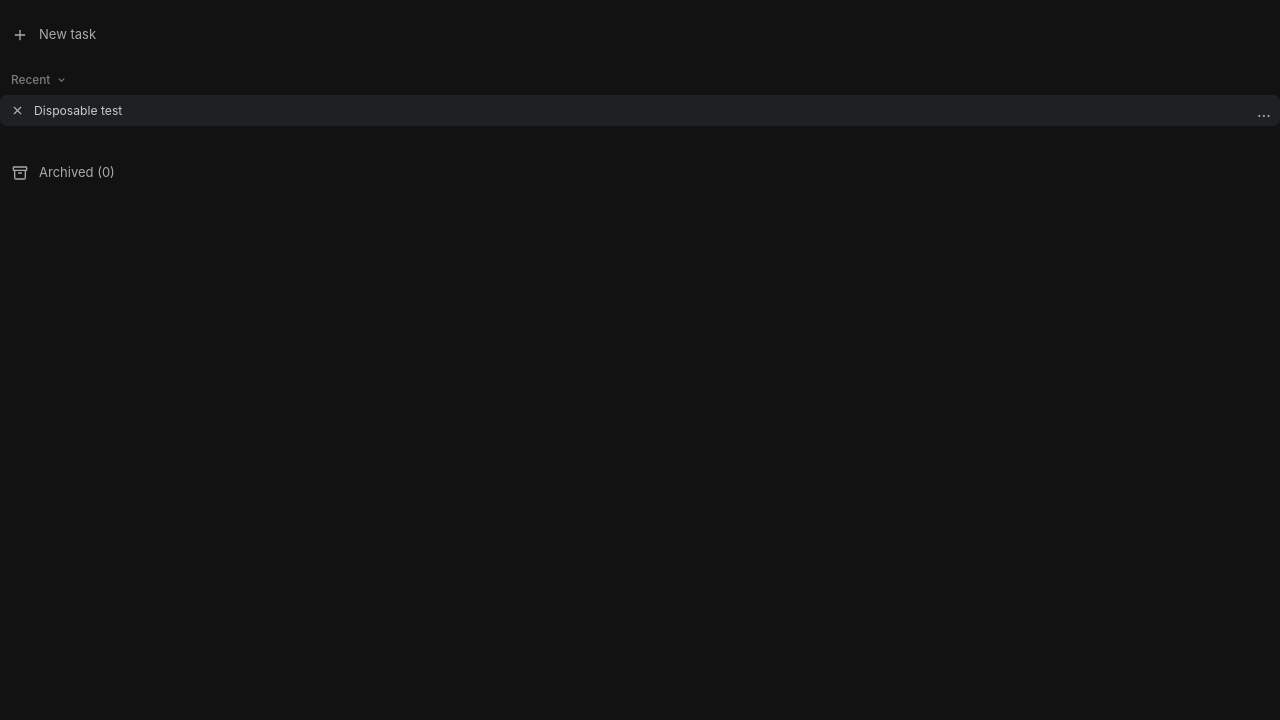
Test: deletes after confirmation and shows refusal errors without hiding the chat
This screenshot has width=1280, height=720.
Click the button named "Delete chat: Disposable test".
click(17, 111)  # box [4,98,30,124]
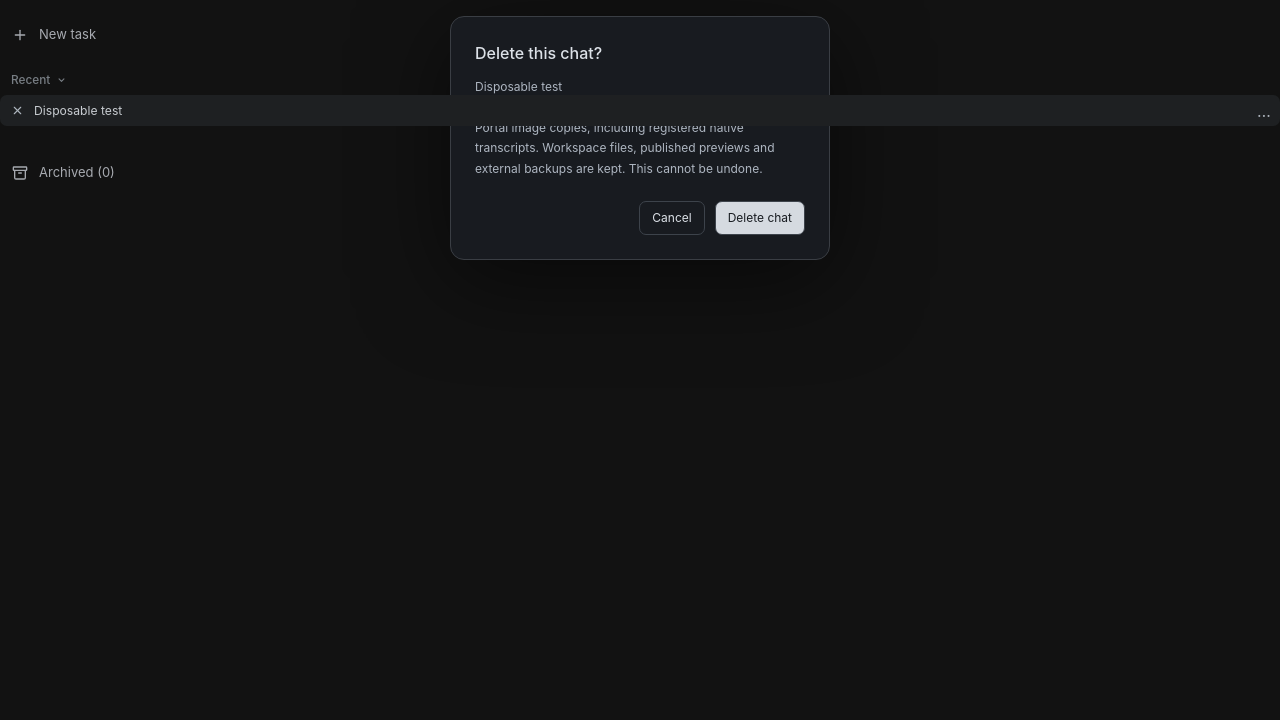
Click the button "Delete chat".
click(760, 218)  # box [715,201,805,235]
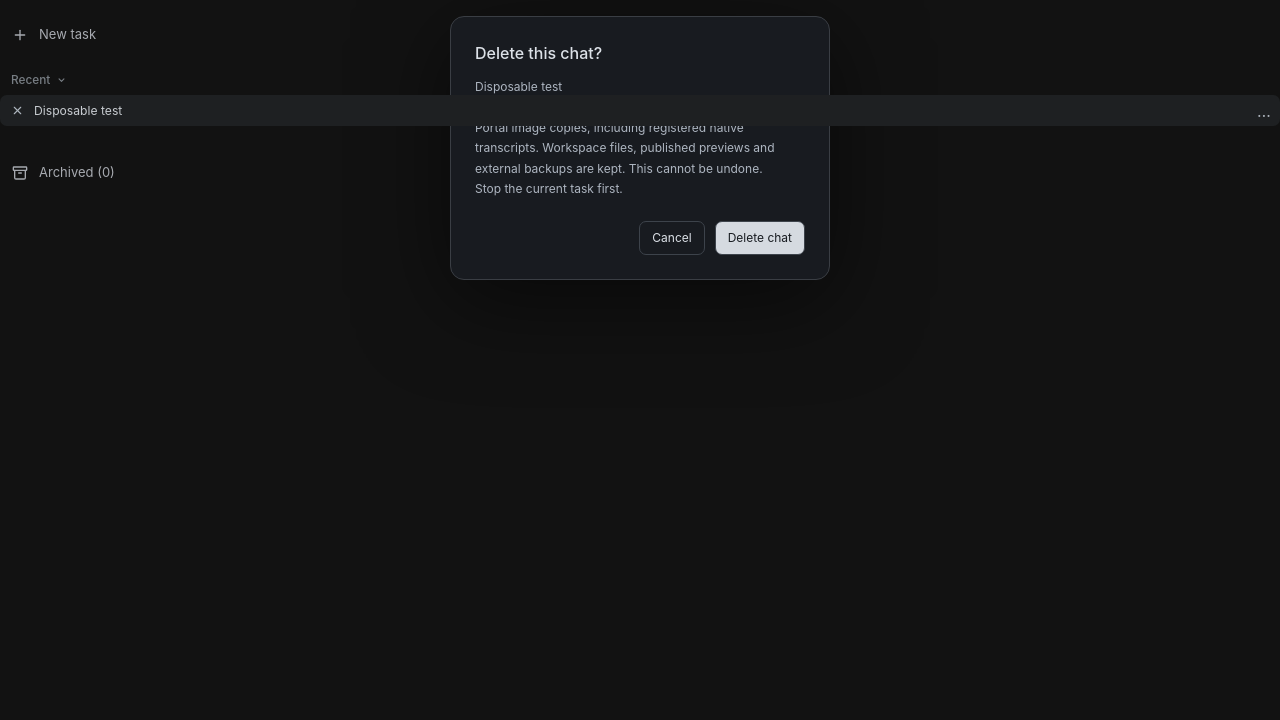
Expected: the message reads "Stop the current task first.", [475,181,623,196]
Click the button "Delete chat".
click(760, 238)  # box [715,221,805,255]
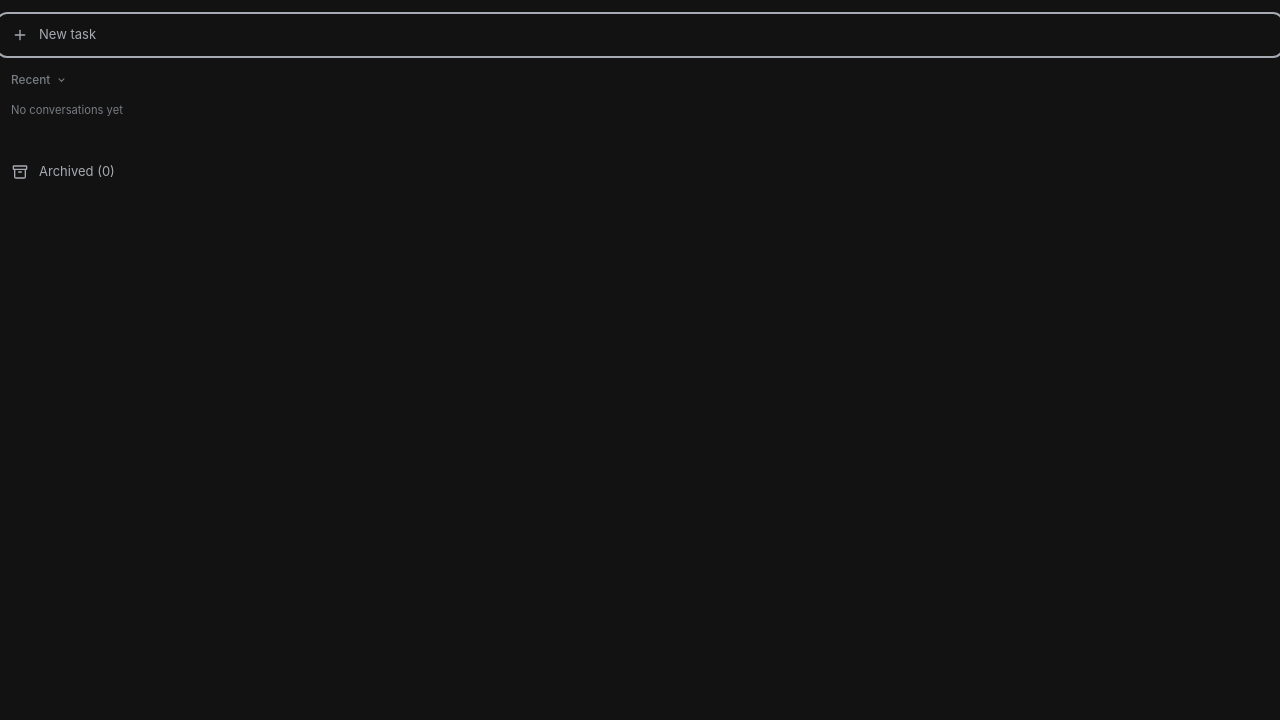
Expected: the text "Disposable test" is gone
